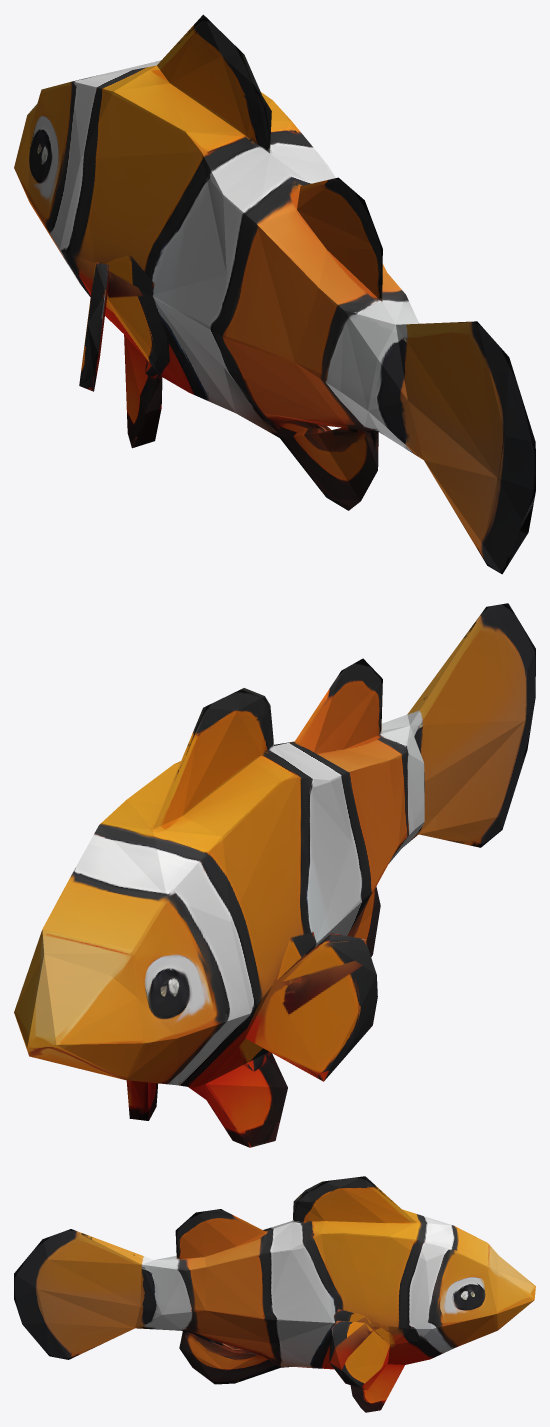
The picture shows the model from 3 angles, top to bottom: view 1: azimuth 30°, elevation 25°; view 2: azimuth 150°, elevation 25°; view 3: azimuth 270°, elevation 25°; orthographic projection. The views are drawn at different scales.
Visible parts, largest first — view 1: Figure; view 2: Figure; view 3: Figure.
Boxes of the visible parts, x1,y1,x2,y2 form: Figure: [14, 14, 535, 574]; Figure: [14, 603, 535, 1147]; Figure: [14, 1176, 535, 1412].
Size of the model in its own units: 0.2667 by 0.3669 by 0.7899.
Materials: 1 (1 with a texture image).
